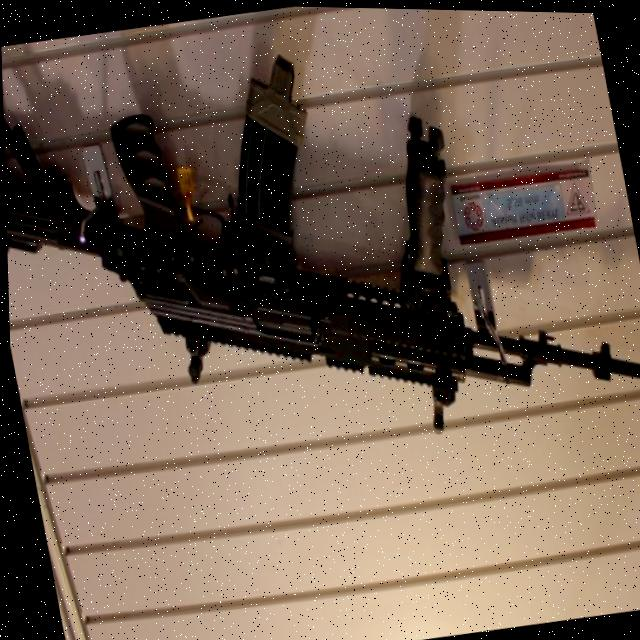firearm: (0, 0, 640, 499)
